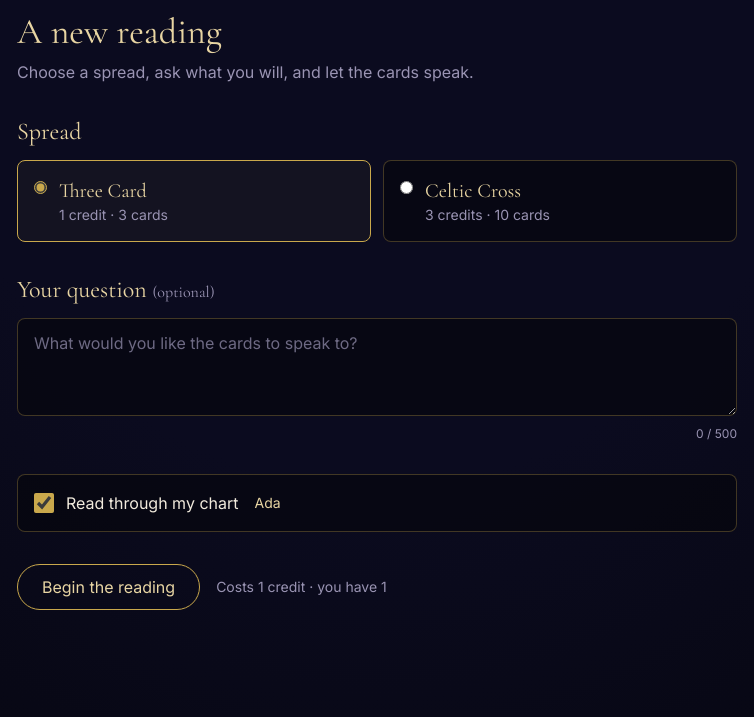
Test: 402 shows the store prompt instead of a stream
Click the radio button labelled "Celtic Cross 3 credits · 10 cards": (406, 188) [400,181,413,194]
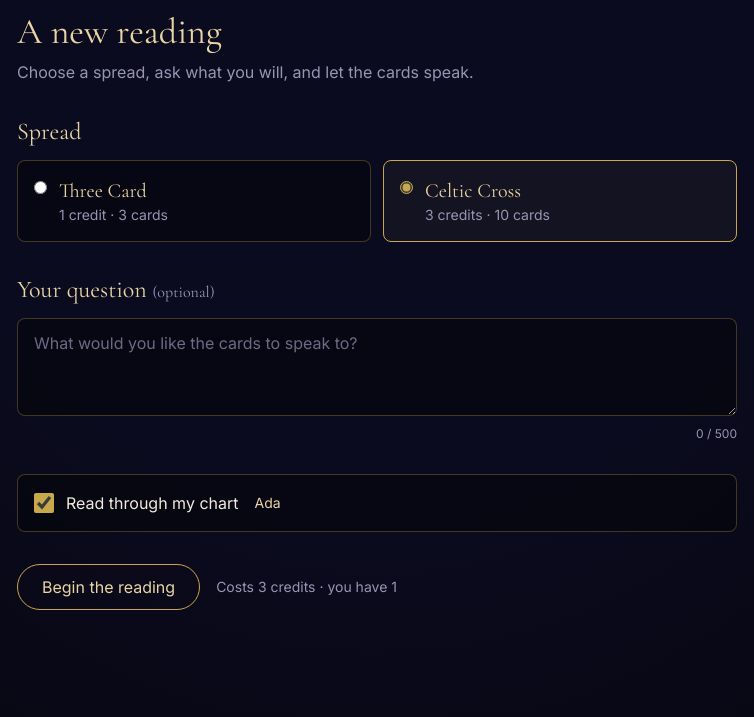
Click the button "Begin the reading": (109, 587) [17,564,200,610]
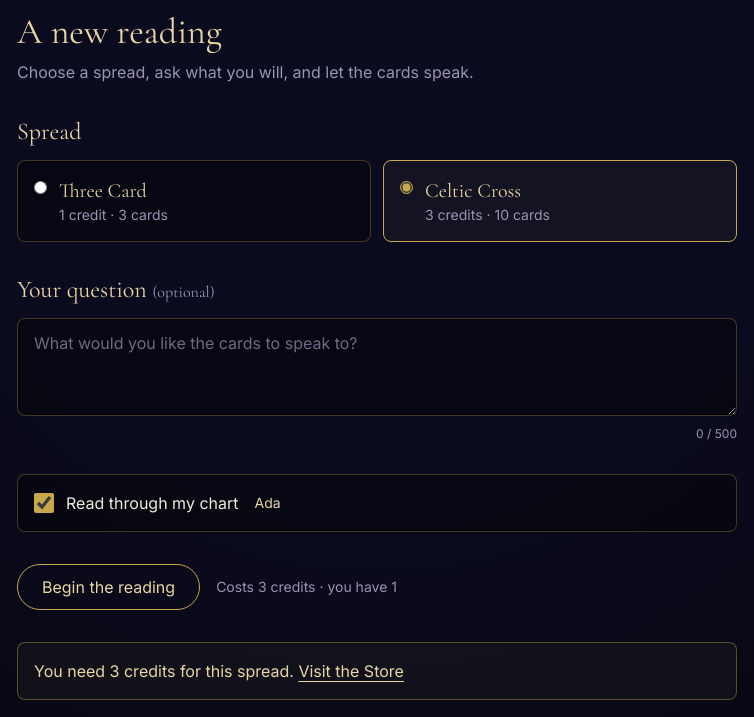
Expected: the radio button labelled "Celtic Cross 3 credits · 10 cards" is checked, [400,181,413,194]
Expected: the message shows "You need 3 credits", [17,642,737,700]
